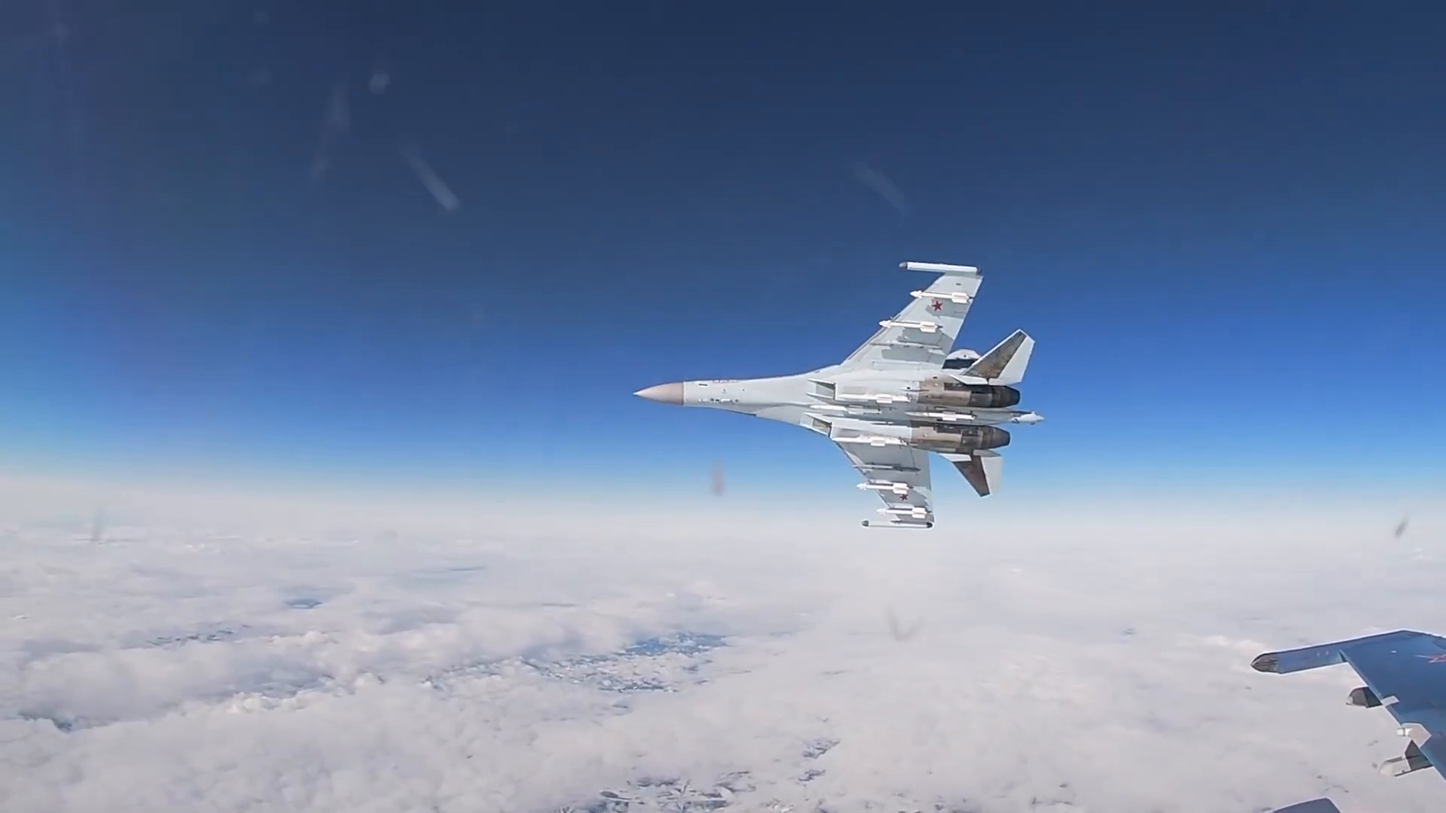Su35: (631, 261, 1044, 530)
